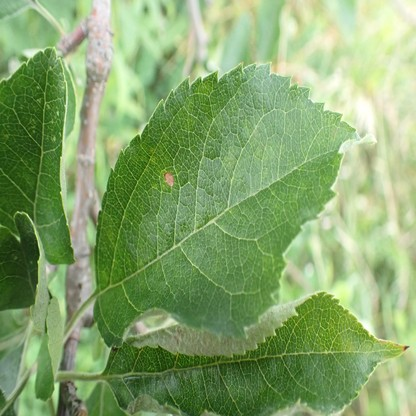frogeye_leaf_spot: (165, 174, 173, 186)
